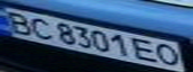0: (90, 28, 109, 54)
1: (109, 32, 130, 58)
3: (69, 25, 93, 51)
8: (51, 20, 75, 47)
B: (0, 9, 36, 35)
C: (24, 15, 57, 42)
E: (130, 36, 160, 63)
O: (151, 42, 184, 67)
